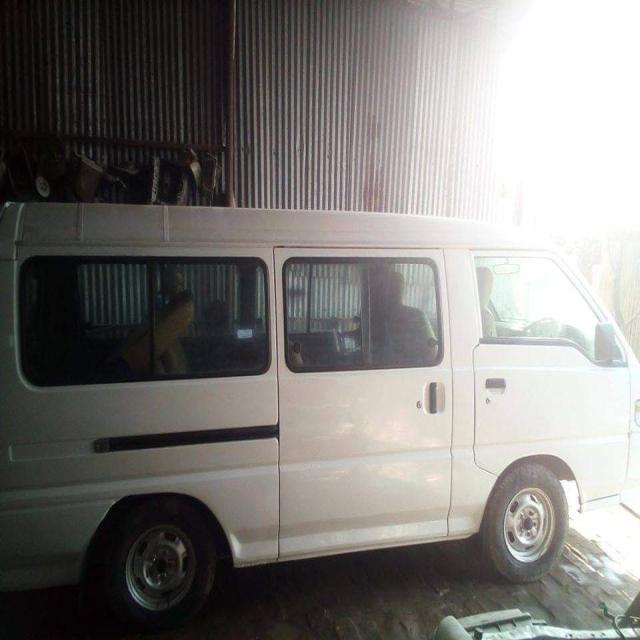white: (6, 186, 640, 538)
